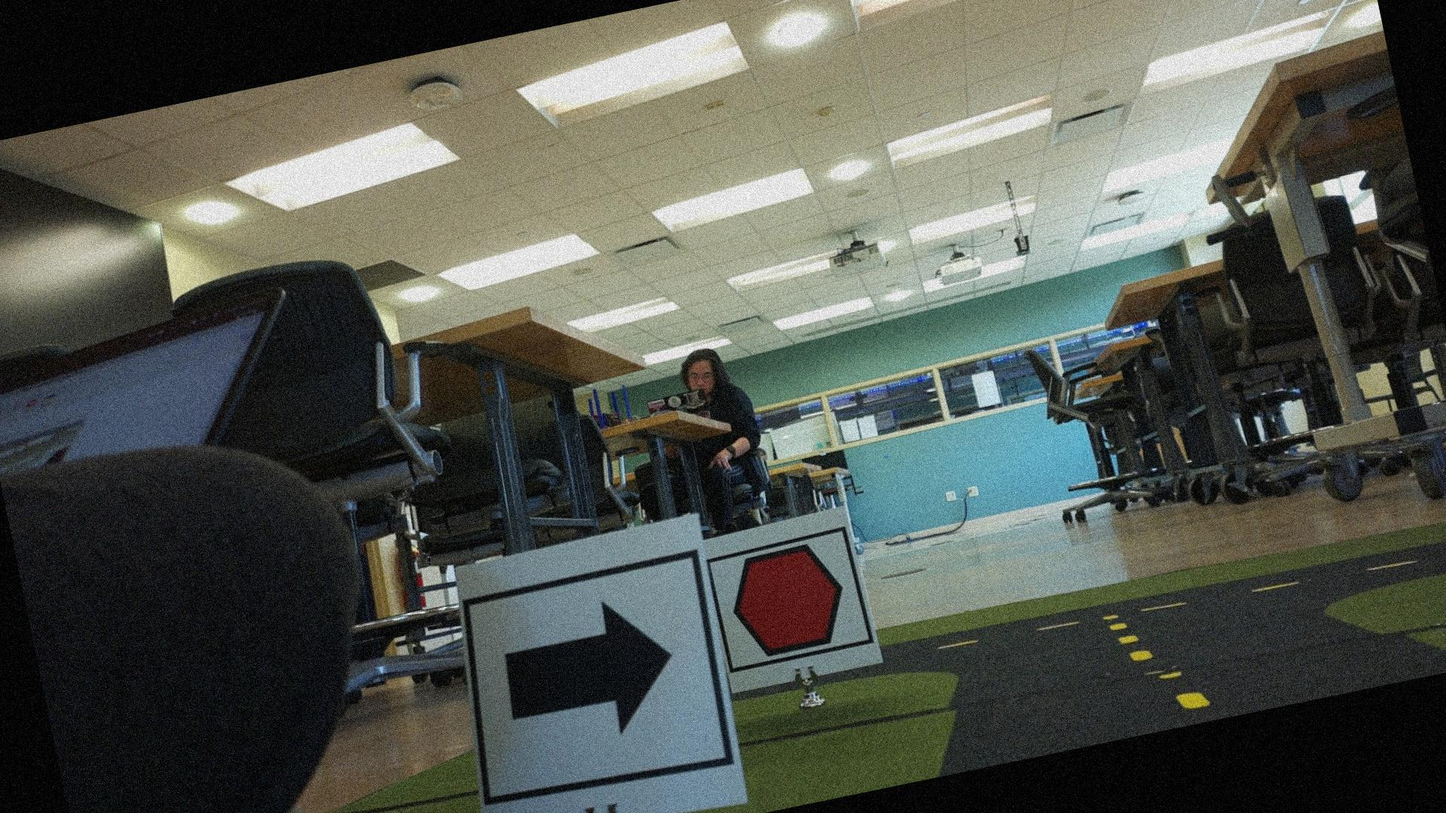stop: (709, 533, 867, 671)
turnright: (462, 556, 737, 812)
yellowline: (1107, 608, 1209, 726)
